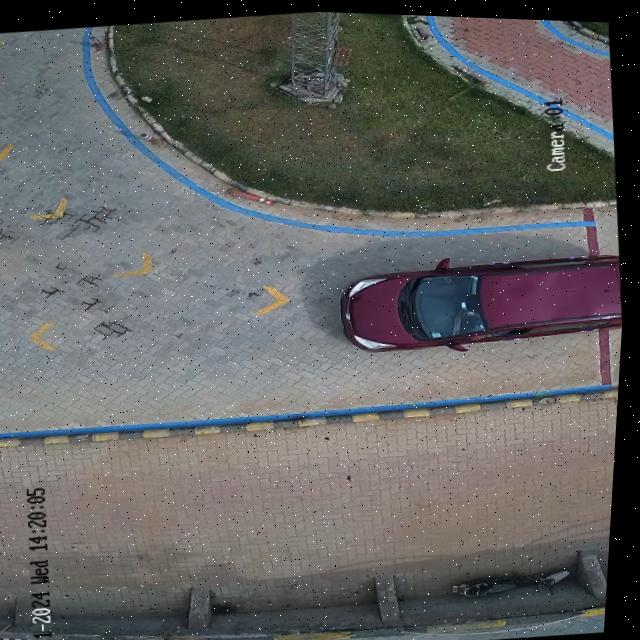car: (346, 250, 626, 347)
